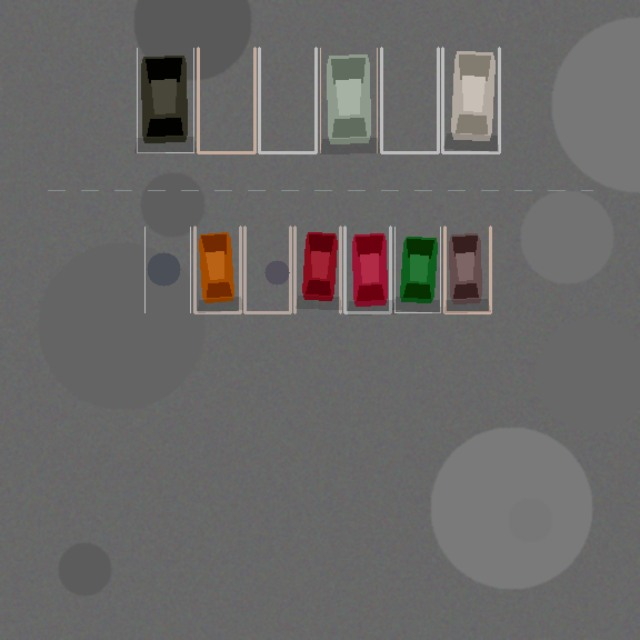space-empty: (259, 48, 316, 152), (381, 48, 438, 152), (198, 48, 254, 152), (144, 227, 190, 312), (244, 227, 290, 312)
space-occupied: (320, 48, 377, 152), (442, 48, 499, 152), (137, 48, 193, 152), (194, 227, 240, 312), (294, 227, 340, 312), (344, 227, 390, 312), (394, 227, 440, 312), (444, 227, 490, 312)
